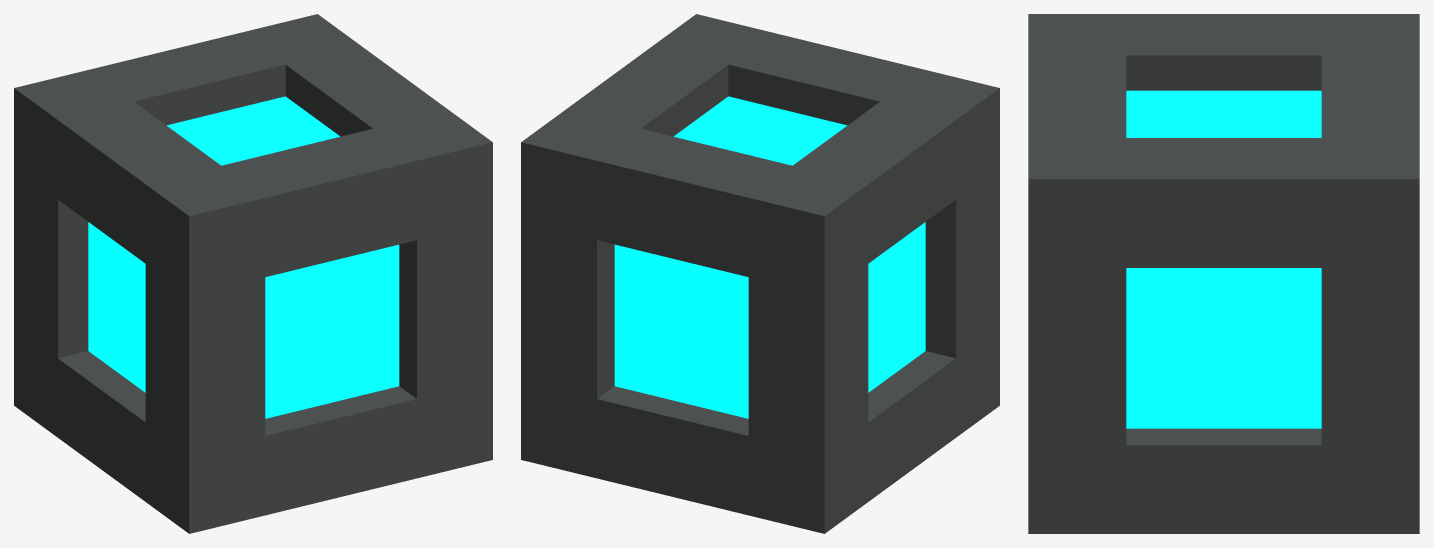
File: powerup.fbx
3 views of the same model, side by side, from view 1: azimuth 30°, elevation 25°; view 2: azimuth 150°, elevation 25°; view 3: azimuth 270°, elevation 25° (orthographic). The views are drawn at different scales.
Parts seen in each view (by area): view 1: Cube; view 2: Cube; view 3: Cube.
Boxes of the visible parts, x1=… form: Cube: x1=14, y1=14, x2=492, y2=533; Cube: x1=521, y1=14, x2=999, y2=533; Cube: x1=1028, y1=14, x2=1419, y2=533.
Size of the model in its own units: 2 by 2 by 2.
